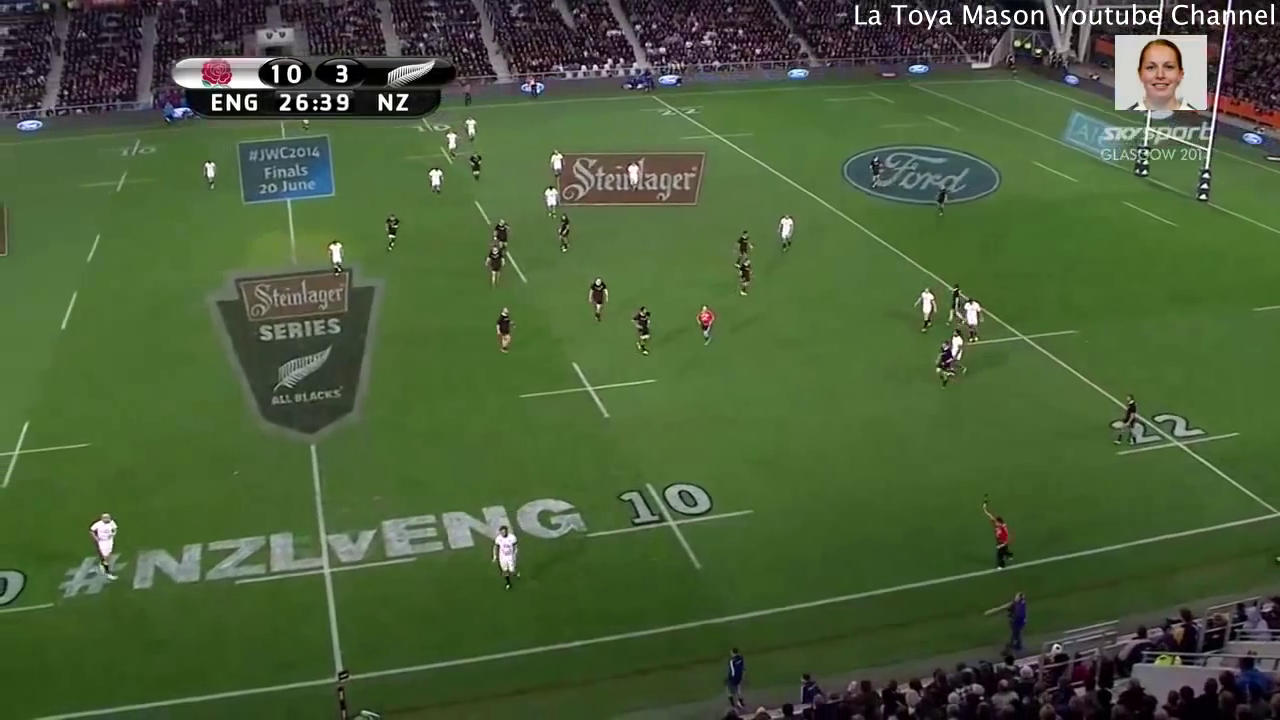corner_flag: (1007, 59, 1019, 81)
player: (84, 509, 129, 582), (487, 520, 528, 595), (1113, 390, 1141, 453), (629, 304, 657, 361), (958, 296, 984, 348), (914, 284, 940, 336), (945, 327, 970, 380), (321, 236, 350, 280), (584, 271, 608, 322), (773, 208, 797, 258), (491, 304, 515, 353), (382, 210, 407, 256), (690, 304, 718, 344), (933, 340, 956, 387), (421, 163, 449, 200), (945, 278, 964, 332), (729, 228, 757, 264), (932, 179, 952, 222), (552, 212, 572, 255), (622, 159, 647, 193), (541, 184, 564, 220), (489, 219, 510, 256), (545, 147, 566, 183), (465, 148, 486, 184), (197, 157, 220, 189), (865, 152, 884, 190), (442, 128, 462, 164), (461, 113, 481, 148), (485, 245, 502, 285), (736, 258, 752, 296)
posts: (1133, 124, 1209, 206)
